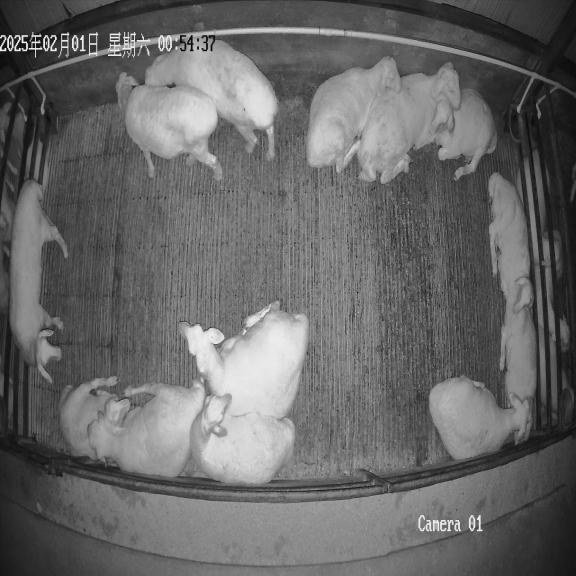lying: (180, 302, 309, 418), (357, 62, 460, 183), (90, 379, 206, 477), (306, 56, 401, 173), (190, 394, 295, 484), (429, 377, 532, 460), (488, 172, 533, 313), (428, 89, 497, 180), (59, 376, 130, 459), (500, 306, 537, 440)
stand: (144, 34, 278, 160), (9, 180, 68, 383), (116, 73, 222, 179)
